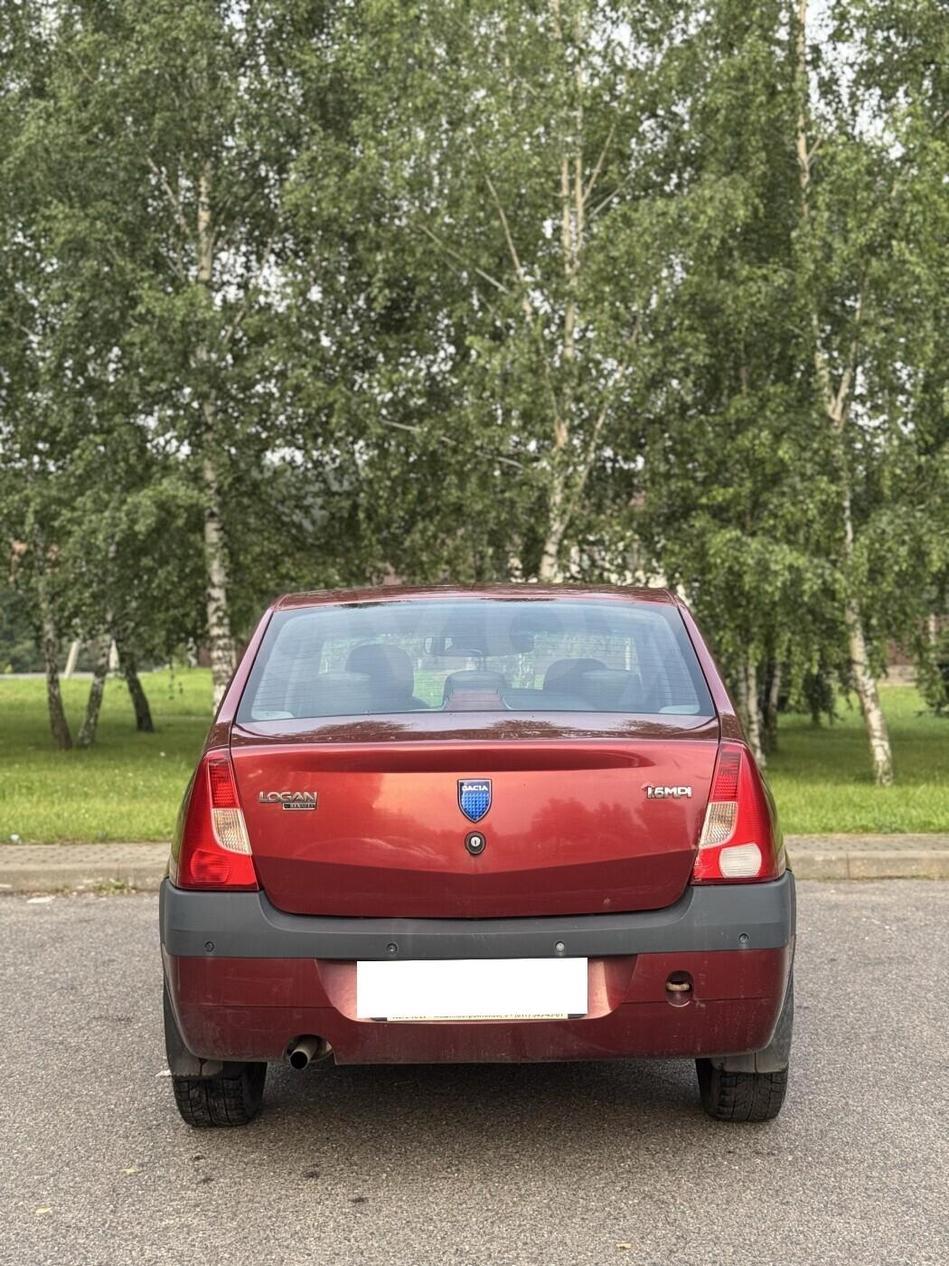Logan_2004-2009: (145, 572, 821, 1154)
